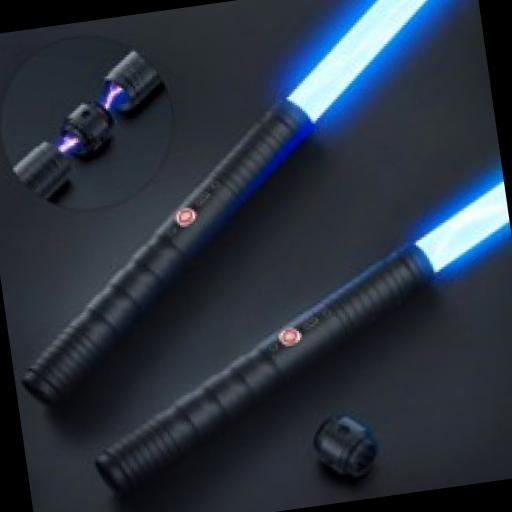lightsaber: (0, 0, 503, 403), (65, 181, 512, 505)
